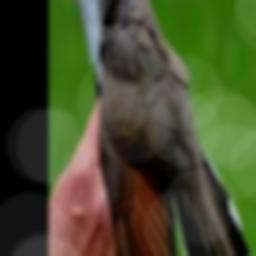Cuckoo: (53, 0, 256, 256)
